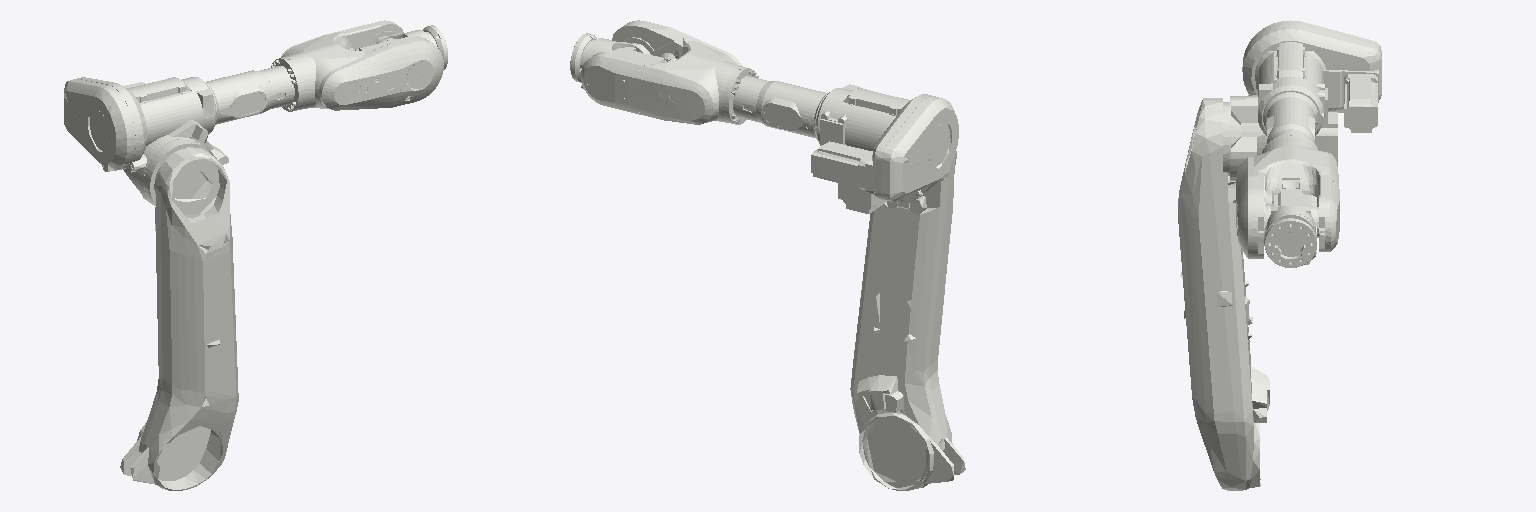
robot.urdf — abb_irb6700_205_280:
<?xml version="1.0" ?>
<!-- =================================================================================== -->
<!-- |    This document was autogenerated by xacro from irb6700_205_280.xacro          | -->
<!-- |    EDITING THIS FILE BY HAND IS NOT RECOMMENDED                                 | -->
<!-- =================================================================================== -->
<robot name="abb_irb6700_205_280">
  <transform tf_rb_ub="0.0 0.0 0.0 0.0 0.0 0.0 1.0" tf_rf_uf="0.0 0.0 0.0 0.0 0.0 0.0 1.0">
  </transform>
  <constraint coeff="0.0 0.0 0.0 1.0 0.0 0.0" lower_bound="0.0" upper_bound="0.0"/>
  <constraint coeff="0.0 1.0 1.0 0.0 1.0 0.0" lower_bound="1.5707963267948966" upper_bound="1.5707963267948966"/>
  <!-- Conversion were obtained from http://www.e-paint.co.uk/Lab_values.asp
       unless otherwise stated. -->
  <!-- link list -->
  <link name="base_link">
    <visual>
      <origin rpy="0 0 0" xyz="0 0 0"/>
      <geometry>
        <mesh filename="package://abb_irb6700_support/meshes/irb6700_205_280/visual/base_link.stl"/>
      </geometry>
      <material name="">
        <color rgba="0.9254902 0.9254902 0.9058824 1"/>
      </material>
    </visual>
    <collision>
      <origin rpy="0 0 0" xyz="0 0 0"/>
      <geometry>
        <mesh filename="package://abb_irb6700_support/meshes/irb6700_205_280/collision/base_link.stl"/>
      </geometry>
      <material name="">
        <color rgba="1 1 0 1"/>
      </material>
    </collision>
  </link>
  <link name="link_1">
    <visual>
      <origin rpy="0 0 0" xyz="0 0 -0.78"/>
      <geometry>
        <mesh filename="package://abb_irb6700_support/meshes/irb6700_205_280/visual/link_1.stl"/>
      </geometry>
      <material name="">
        <color rgba="0.9254902 0.9254902 0.9058824 1"/>
      </material>
    </visual>
    <collision>
      <origin rpy="0 0 0" xyz="0 0 -0.78"/>
      <geometry>
        <mesh filename="package://abb_irb6700_support/meshes/irb6700_205_280/collision/link_1.stl"/>
      </geometry>
      <material name="">
        <color rgba="1 1 0 1"/>
      </material>
    </collision>
  </link>
  <link name="link_2">
    <visual>
      <origin rpy="0 0 0" xyz="-0.32 0 -0.78"/>
      <geometry>
        <mesh filename="package://abb_irb6700_support/meshes/irb6700_205_280/visual/link_2.stl"/>
      </geometry>
      <material name="">
        <color rgba="0.9254902 0.9254902 0.9058824 1"/>
      </material>
    </visual>
    <collision>
      <origin rpy="0 0 0" xyz="-0.32 0 -0.78"/>
      <geometry>
        <mesh filename="package://abb_irb6700_support/meshes/irb6700_205_280/collision/link_2.stl"/>
      </geometry>
      <material name="">
        <color rgba="1 1 0 1"/>
      </material>
    </collision>
  </link>
  <link name="link_3">
    <visual>
      <origin rpy="0 0 0" xyz="-0.32 0 -2.06"/>
      <geometry>
        <mesh filename="package://abb_irb6700_support/meshes/irb6700_205_280/visual/link_3.stl"/>
      </geometry>
      <material name="">
        <color rgba="0.9254902 0.9254902 0.9058824 1"/>
      </material>
    </visual>
    <collision>
      <origin rpy="0 0 0" xyz="-0.32 0 -2.06"/>
      <geometry>
        <mesh filename="package://abb_irb6700_support/meshes/irb6700_205_280/collision/link_3.stl"/>
      </geometry>
      <material name="">
        <color rgba="1 1 0 1"/>
      </material>
    </collision>
  </link>
  <link name="link_4">
    <visual>
      <origin rpy="0 0 0" xyz="-0.32 0 -2.26"/>
      <geometry>
        <mesh filename="package://abb_irb6700_support/meshes/irb6700_205_280/visual/link_4.stl"/>
      </geometry>
      <material name="">
        <color rgba="0.9254902 0.9254902 0.9058824 1"/>
      </material>
    </visual>
    <collision>
      <origin rpy="0 0 0" xyz="-0.32 0 -2.26"/>
      <geometry>
        <mesh filename="package://abb_irb6700_support/meshes/irb6700_205_280/collision/link_4.stl"/>
      </geometry>
      <material name="">
        <color rgba="1 1 0 1"/>
      </material>
    </collision>
  </link>
  <link name="link_5">
    <visual>
      <origin rpy="0 0 0" xyz="-1.5025 0 -2.26"/>
      <geometry>
        <mesh filename="package://abb_irb6700_support/meshes/irb6700_205_280/visual/link_5.stl"/>
      </geometry>
      <material name="">
        <color rgba="0.9254902 0.9254902 0.9058824 1"/>
      </material>
    </visual>
    <collision>
      <origin rpy="0 0 0" xyz="-1.5025 0 -2.26"/>
      <geometry>
        <mesh filename="package://abb_irb6700_support/meshes/irb6700_205_280/collision/link_5.stl"/>
      </geometry>
      <material name="">
        <color rgba="1 1 0 1"/>
      </material>
    </collision>
  </link>
  <link name="link_6">
    <visual>
      <origin rpy="3.141592653589793 -1.5707963267948966 0" xyz="-2.26 0 -1.7025"/>
      <geometry>
        <mesh filename="package://abb_irb6700_support/meshes/irb6700_205_280/visual/link_6.stl"/>
      </geometry>
      <material name="">
        <color rgba="0.9254902 0.9254902 0.9058824 1"/>
      </material>
    </visual>
    <collision>
      <origin rpy="3.141592653589793 -1.5707963267948966 0" xyz="-2.26 0 -1.7025"/>
      <geometry>
        <mesh filename="package://abb_irb6700_support/meshes/irb6700_205_280/collision/link_6.stl"/>
      </geometry>
      <material name="">
        <color rgba="1 1 0 1"/>
      </material>
    </collision>
  </link>
  <joint name="joint1" type="revolute">
    <origin rpy="0 0 0" xyz="0 0 0.78"/>
    <parent link="base_link"/>
    <child link="link_1"/>
    <axis xyz="0 0 1"/>
    <limit effort="0" lower="-2.9670597283903604" upper="2.9670597283903604" velocity="1.7453292519943295"/>
  </joint>
  <joint name="joint2" type="revolute">
    <origin rpy="0 0 0" xyz="0.32 0 0"/>
    <parent link="link_1"/>
    <child link="link_2"/>
    <axis xyz="0 1 0"/>
    <limit effort="0" lower="-1.1344640137963142" upper="1.4835298641951802" velocity="1.5707963267948966"/>
  </joint>
  <joint name="joint3" type="revolute">
    <origin rpy="0 0 0" xyz="0 0 1.28"/>
    <parent link="link_2"/>
    <child link="link_3"/>
    <axis xyz="0 1 0"/>
    <limit effort="0" lower="-3.141592653589793" upper="1.2042771838760873" velocity="1.5707963267948966"/>
  </joint>
  <joint name="joint4" type="revolute">
    <origin rpy="0 0 0" xyz="0 0 0.2"/>
    <parent link="link_3"/>
    <child link="link_4"/>
    <axis xyz="1 0 0"/>
    <limit effort="0" lower="-5.235987755982989" upper="5.235987755982989" velocity="2.9670597283903604"/>
  </joint>
  <joint name="joint5" type="revolute">
    <origin rpy="0 0 0" xyz="1.1825 0 0"/>
    <parent link="link_4"/>
    <child link="link_5"/>
    <axis xyz="0 1 0"/>
    <limit effort="0" lower="-2.2689280275926285" upper="2.2689280275926285" velocity="2.0943951023931953"/>
  </joint>
  <joint name="joint6" type="revolute">
    <origin rpy="0 1.5707963267948966 0" xyz="0.2 0 0"/>
    <parent link="link_5"/>
    <child link="link_6"/>
    <axis xyz="0 0 1"/>
    <limit effort="0" lower="-6.283185307179586" upper="6.283185307179586" velocity="3.3161255787892263"/>
  </joint>
</robot>

--- Facts derived from the render (not from the file) ---
Views: 3 orthographic renders of the robot side by side, from view 1: azimuth 30°, elevation 25°; view 2: azimuth 150°, elevation 25°; view 3: azimuth 270°, elevation 25°.
Robot: abb_irb6700_205_280 — 7 links, 6 joints (6 revolute); root link base_link; default pose: every joint at zero.
Links seen in each view (by area): view 1: link_2, link_4, link_3; view 2: link_2, link_4, link_3, link_5; view 3: link_2, link_3, link_4, link_6, link_5.
Link boxes in pixels (<box>): link_2: <box>120,147,238,490</box>; link_4: <box>90,20,443,149</box>; link_3: <box>64,77,228,205</box>; link_2: <box>850,151,965,490</box>; link_4: <box>579,20,949,164</box>; link_3: <box>811,84,958,213</box>; link_5: <box>580,38,666,88</box>; link_2: <box>1178,98,1269,490</box>; link_3: <box>1223,20,1381,180</box>; link_4: <box>1236,92,1339,258</box>; link_6: <box>1265,218,1316,267</box>; link_5: <box>1265,189,1316,264</box>.
Bounding box of the posed robot: 1.67 × 0.7814 × 1.85 m (x, y, z).
Meshes: 7 distinct files referenced, 5 mesh visuals loaded (5 binary STL); not drawn: 2 (reference not matched to a file when rendering).